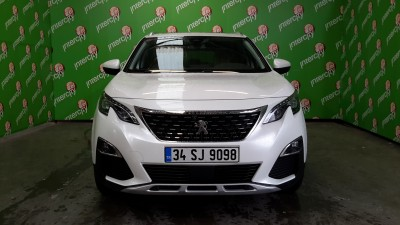car: (86, 31, 318, 200)
